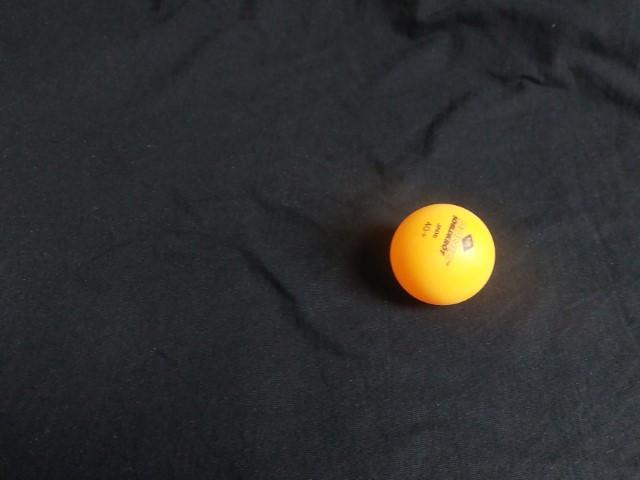oball: (386, 196, 503, 311)
